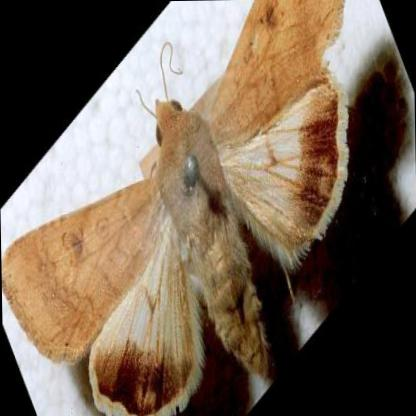helicoverpa: (1, 0, 348, 416)
